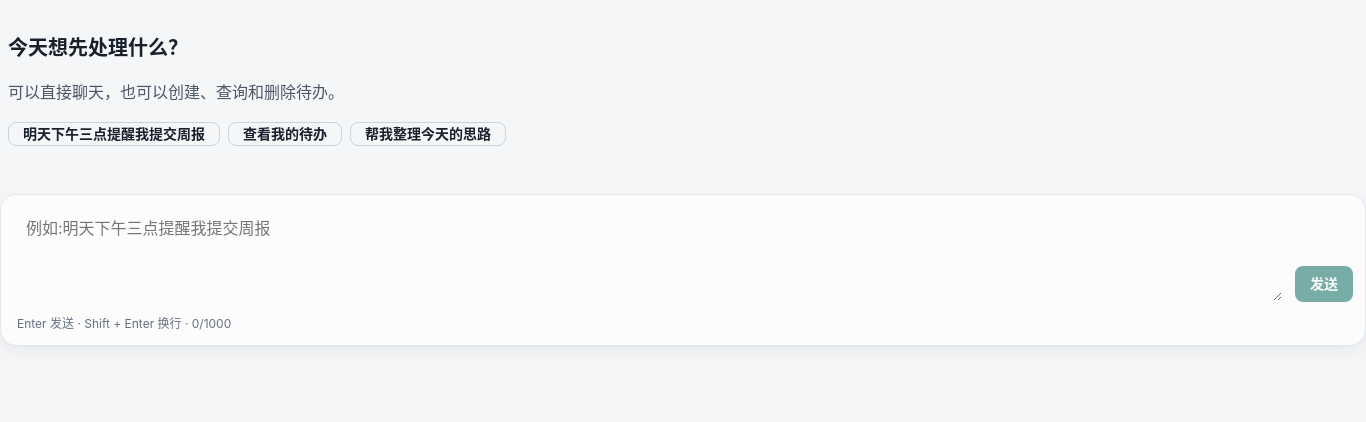
it: warns when the todo has no usable reminder channel
Type "明天提醒我周报" into the text box named "消息" at (650, 254), box x1=17 y1=207 x2=1283 y2=302
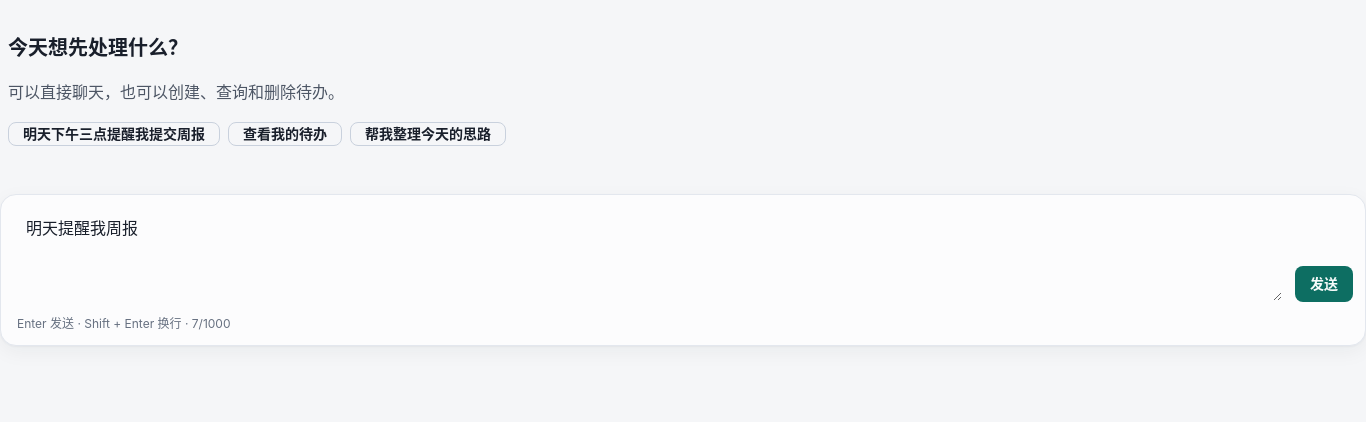
Click the button "发送" at (1324, 284), box x1=1295 y1=266 x2=1353 y2=302
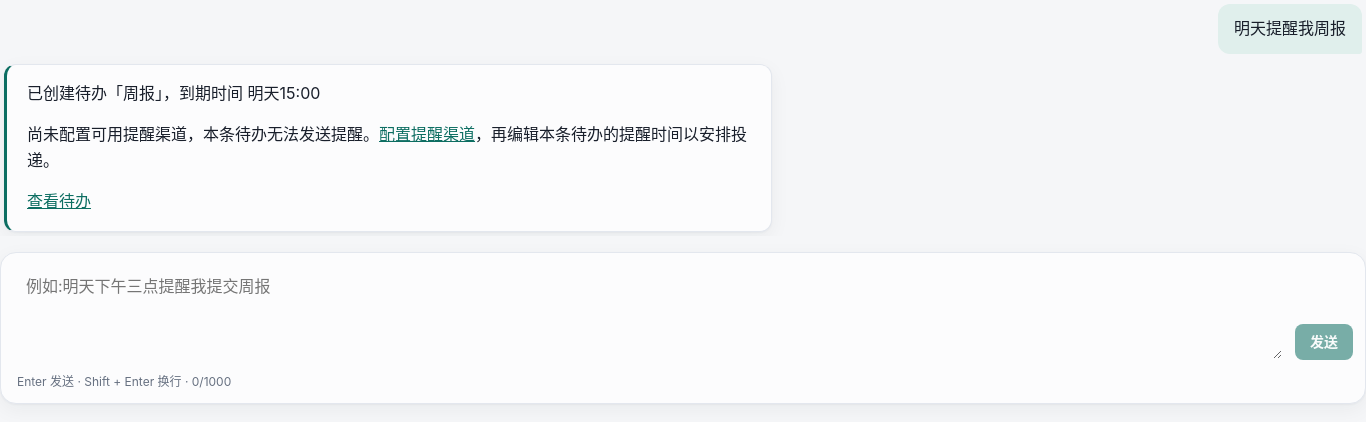
Result: the text "尚未配置可用提醒渠道，本条待办无法发送提醒。 配置提醒渠道 ，再编辑本条待办的提醒时间以安排投递。" is shown at x1=27 y1=122 x2=751 y2=173
